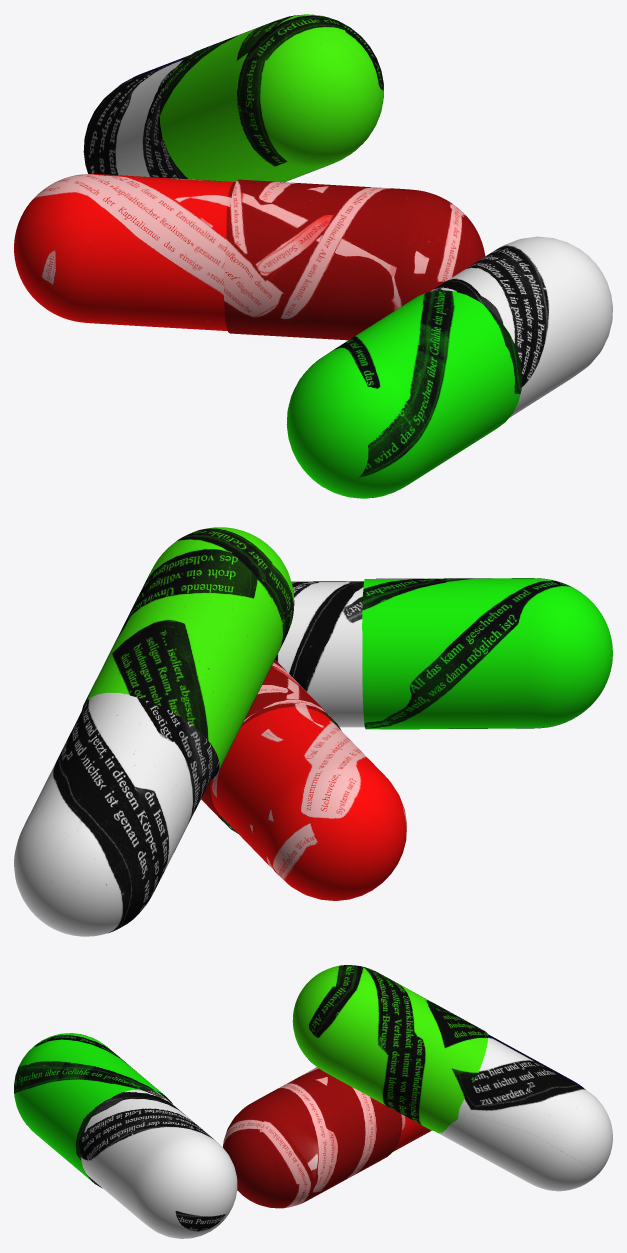
Rendered from sprechen-ueber-gefuehle-Pille_5.glb.
The picture shows the model from 3 angles, top to bottom: view 1: azimuth 30°, elevation 25°; view 2: azimuth 150°, elevation 25°; view 3: azimuth 270°, elevation 25°; orthographic projection. The views are drawn at different scales.
Parts seen in each view (by area): view 1: Capsule (×3), Capsule.1 (×3); view 2: Capsule.1 (×3), Capsule (×3); view 3: Capsule (×3), Capsule.1 (×3).
Boxes of the visible parts, box(x1,y1,x2,y2) form: Capsule (×3): box(159, 14, 522, 498); Capsule.1 (×3): box(14, 60, 612, 417); Capsule.1 (×3): box(14, 581, 407, 936); Capsule (×3): box(85, 527, 612, 821); Capsule (×3): box(14, 965, 488, 1208); Capsule.1 (×3): box(80, 1036, 612, 1238).
Size of the model in its own units: 5.86 by 4.08 by 9.99.
Materials: 6 (6 with a texture image).
